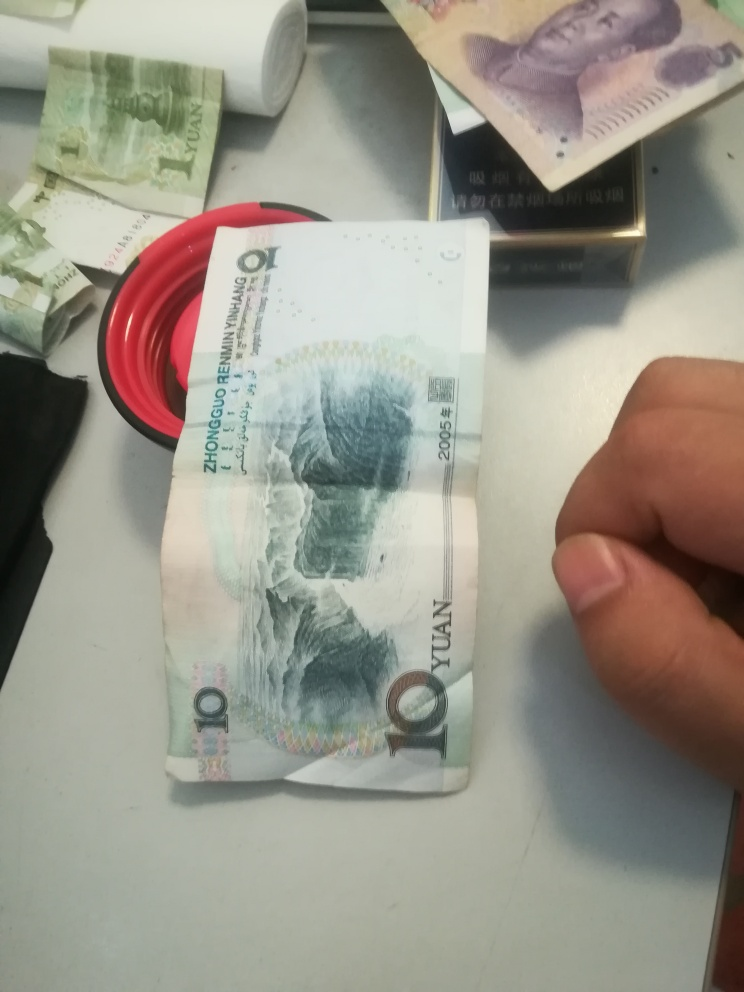rmb: (161, 226, 489, 791), (376, 1, 740, 193)
